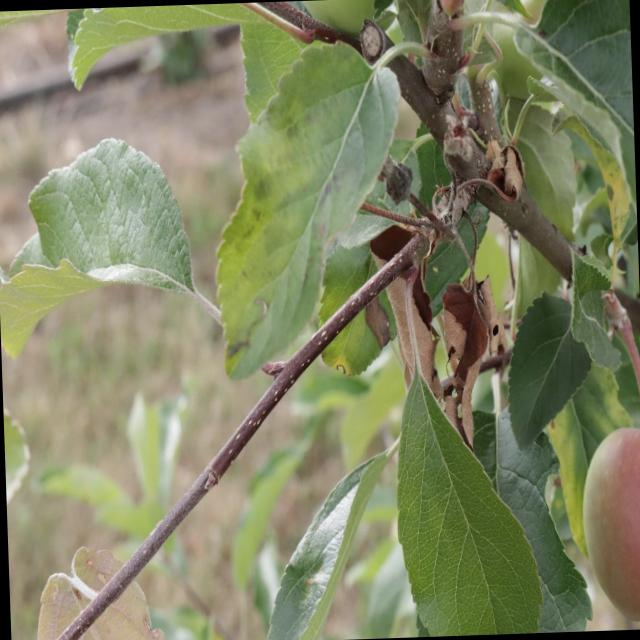-FireBlight-: (373, 225, 496, 430)
